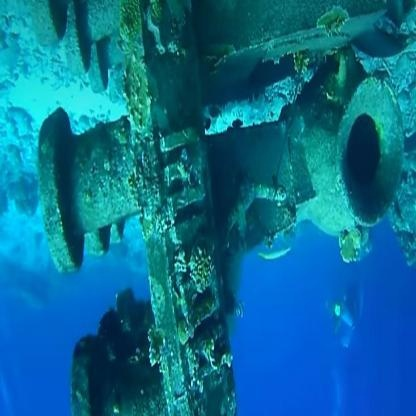metal: (73, 76, 392, 273)
